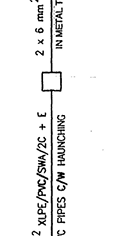Cable Termination Box: (34, 65, 71, 98)
